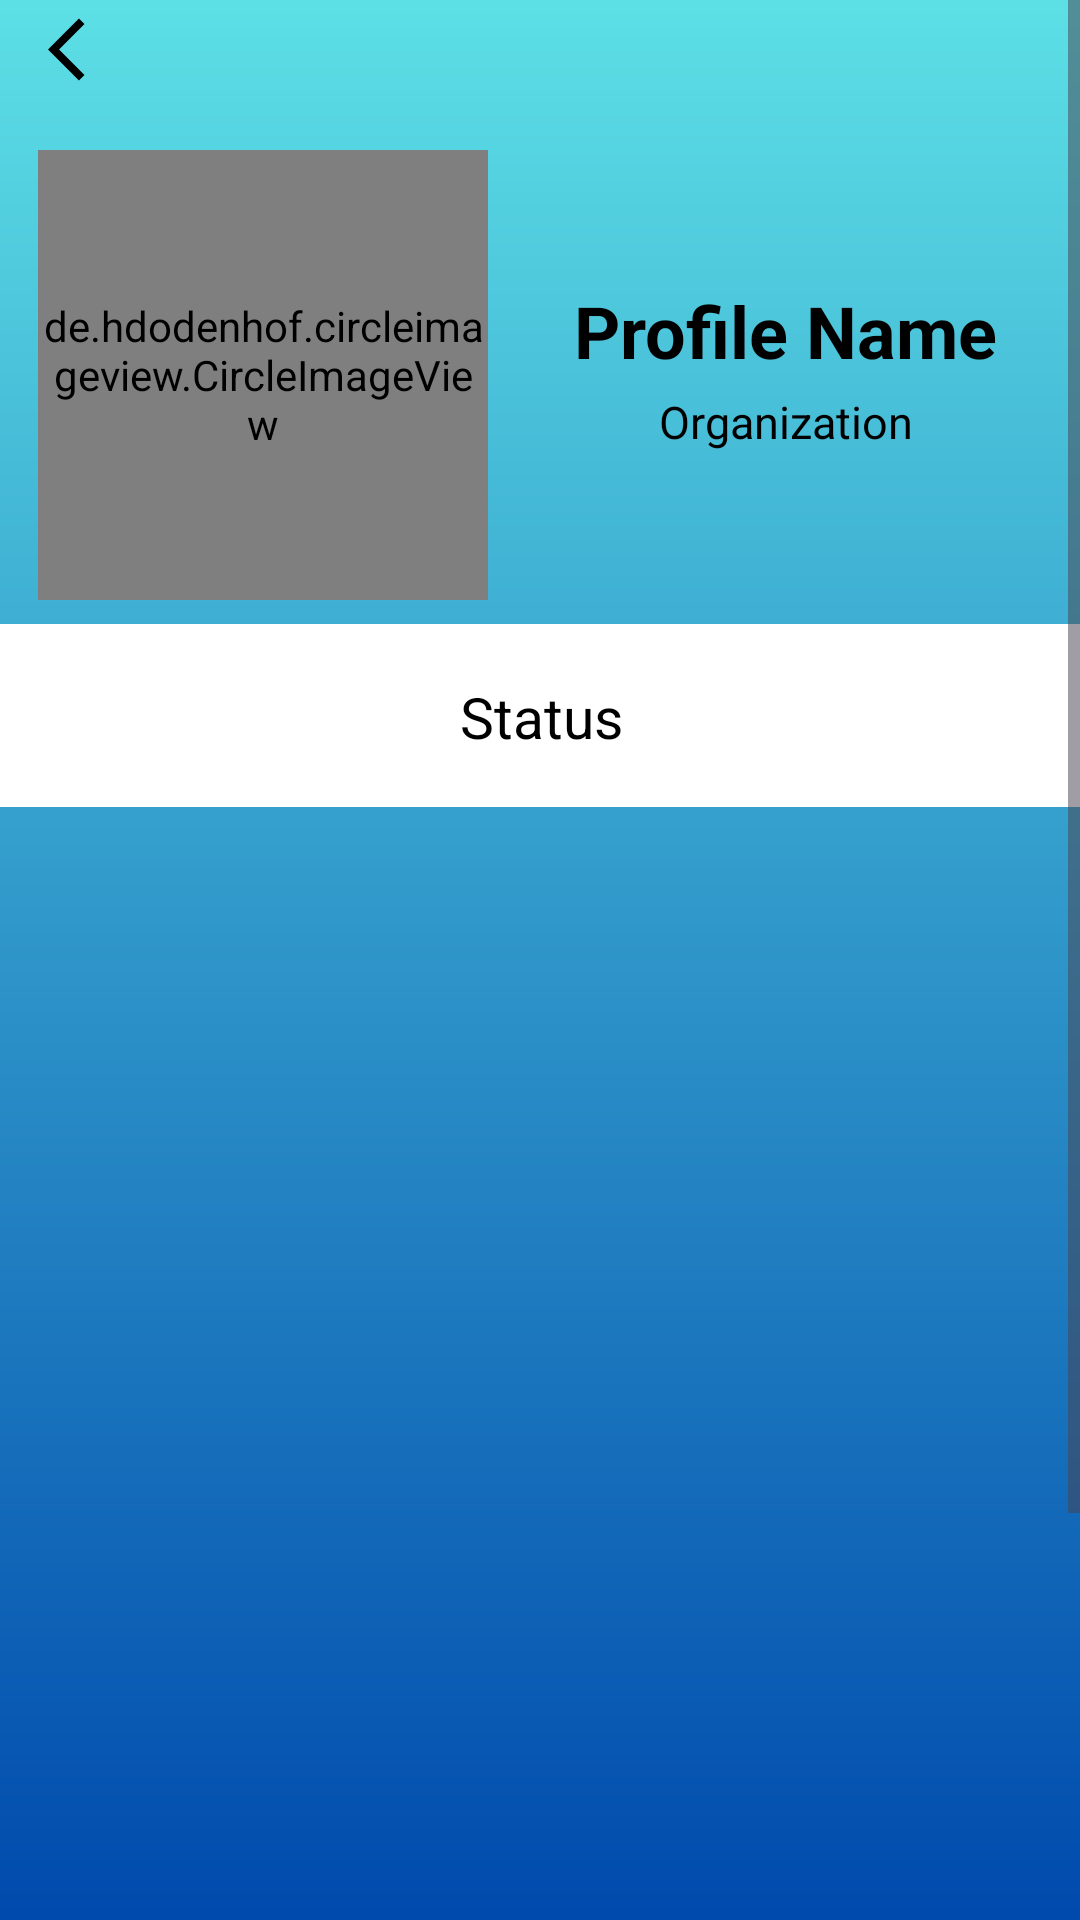

Icon click points for this 1080×1920 phone screenshot, format (x,y):
Arrow Back: (66,49)
